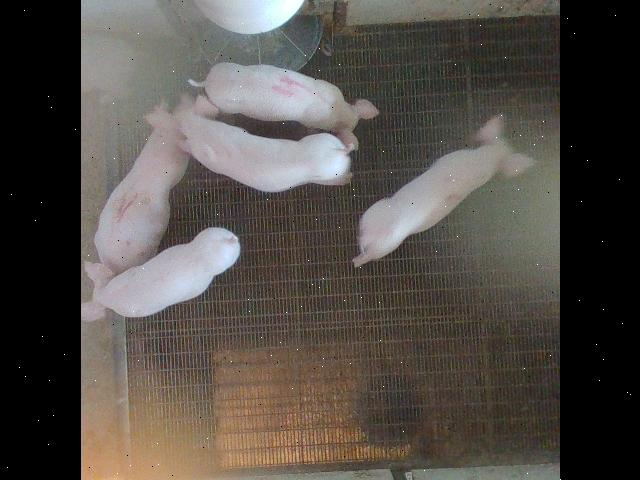pig-1: (94, 130, 188, 275)
pig-4: (188, 63, 378, 150)
